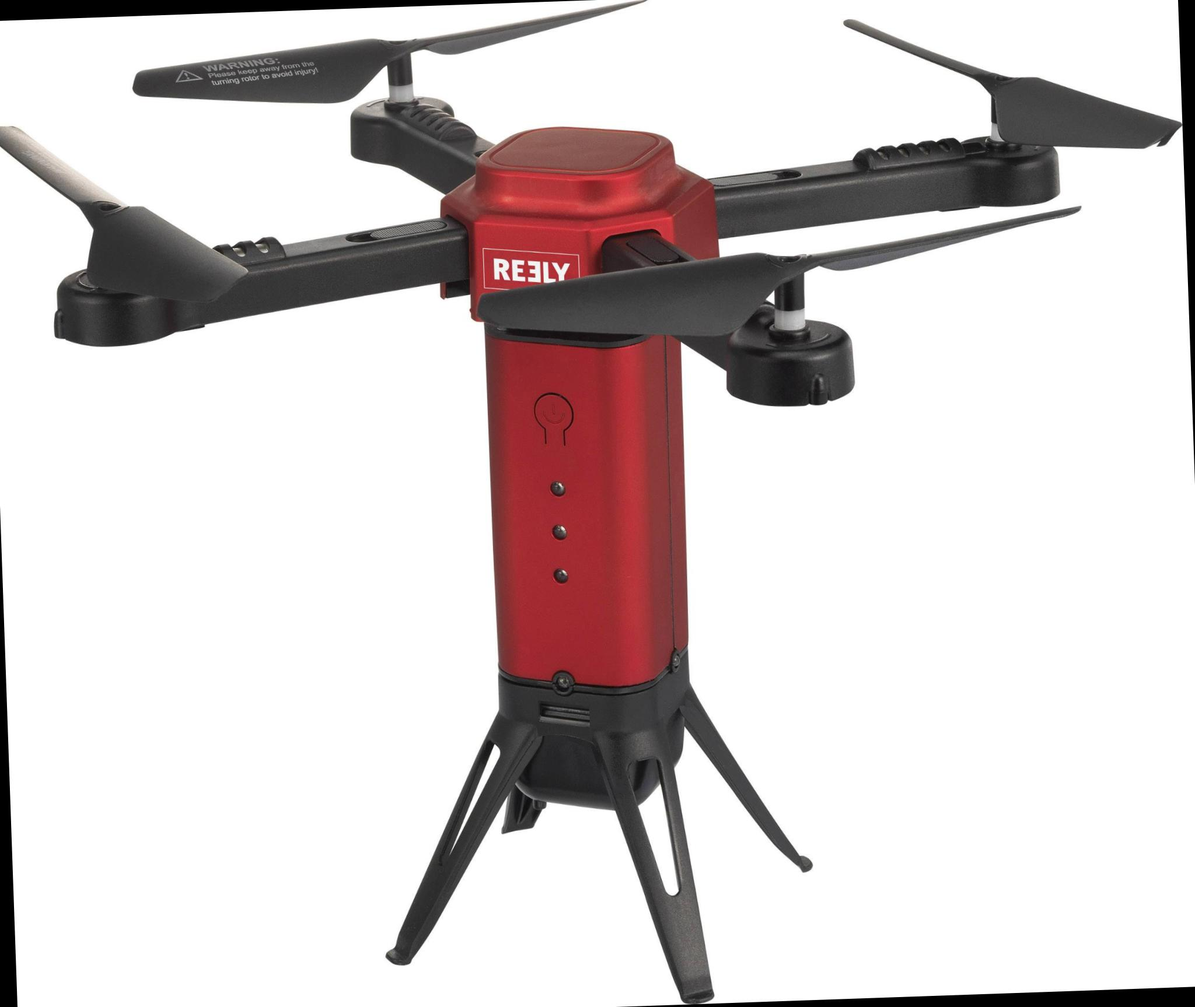drone: (0, 2, 1193, 479)
